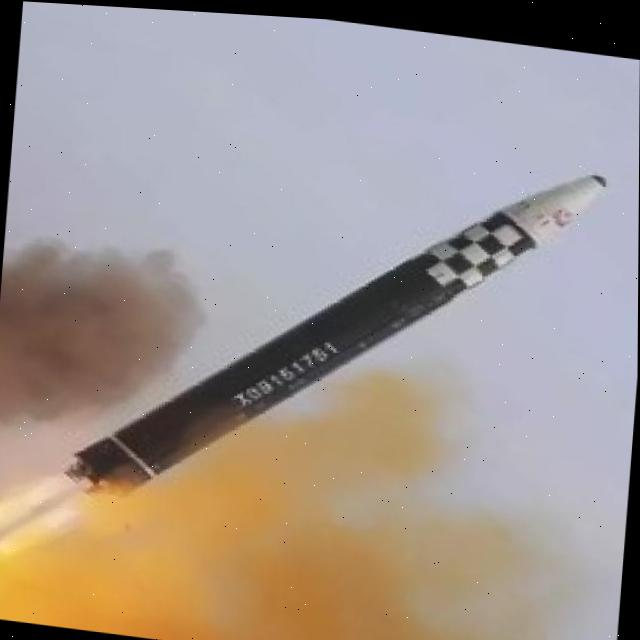missile: (77, 103, 614, 560)
